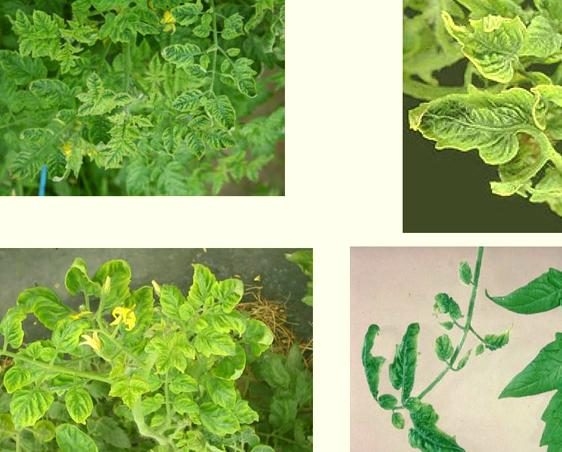Tomato leaf yellow virus: (402, 84, 561, 164), (432, 4, 562, 84), (10, 379, 56, 430), (93, 261, 137, 306), (224, 58, 266, 101), (208, 96, 251, 136), (200, 399, 244, 438), (211, 274, 257, 311), (51, 310, 90, 350), (65, 382, 101, 425), (193, 328, 238, 358), (0, 296, 25, 348), (10, 146, 50, 177), (158, 43, 200, 71), (159, 281, 188, 321), (172, 88, 217, 112), (169, 0, 206, 25), (203, 127, 242, 149), (2, 367, 35, 392), (183, 132, 209, 163), (34, 11, 58, 43), (58, 38, 78, 74), (161, 120, 180, 156), (128, 18, 160, 39), (169, 372, 201, 393), (85, 68, 104, 100), (154, 352, 180, 374), (15, 8, 34, 38), (149, 330, 175, 351), (17, 34, 38, 57), (112, 90, 138, 108), (106, 377, 130, 395), (131, 376, 158, 391), (79, 103, 100, 116), (120, 138, 137, 154)
